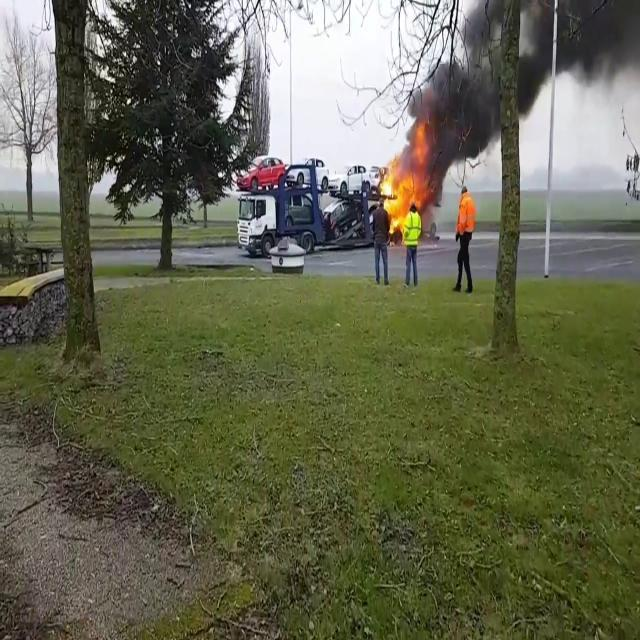Fire: (375, 128, 430, 240)
Smoke: (516, 0, 640, 179), (408, 2, 504, 172)
